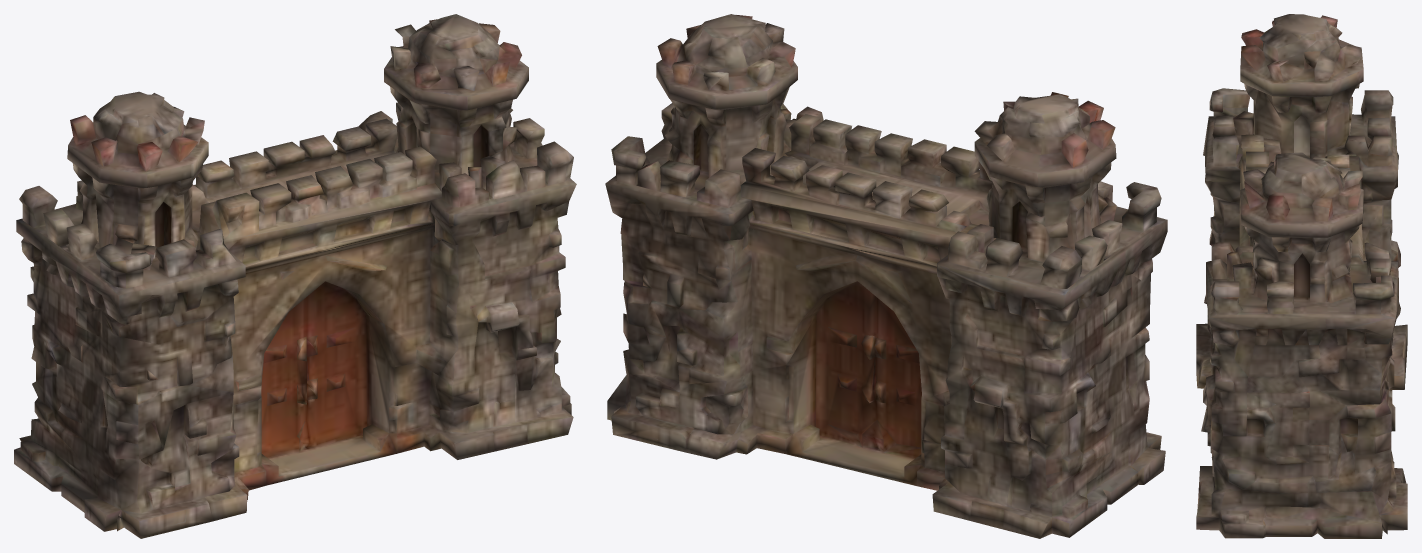
File: portao_jerusalem_lod1.glb
3 views of the same model, side by side, from view 1: azimuth 30°, elevation 25°; view 2: azimuth 150°, elevation 25°; view 3: azimuth 270°, elevation 25° (orthographic). The views are drawn at different scales.
Parts seen in each view (by area): view 1: tripo_node_d0882d1c-117c-4841-9baf-9850676efa85; view 2: tripo_node_d0882d1c-117c-4841-9baf-9850676efa85; view 3: tripo_node_d0882d1c-117c-4841-9baf-9850676efa85.
Part boxes in pixels (x1=…): tripo_node_d0882d1c-117c-4841-9baf-9850676efa85: x1=14, y1=14, x2=576, y2=538; tripo_node_d0882d1c-117c-4841-9baf-9850676efa85: x1=605, y1=14, x2=1167, y2=538; tripo_node_d0882d1c-117c-4841-9baf-9850676efa85: x1=1196, y1=14, x2=1407, y2=538.
Bounding box in the file's own units: 0.978 × 0.7579 × 0.423.
1 material, 1 textured.
